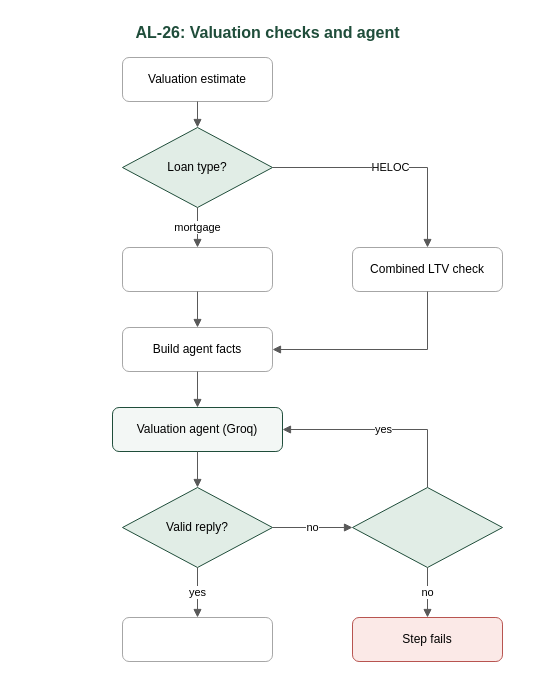
Some shapes in this 534 by 679 pixel diagram are drawn without their labels. Here are the shapes that lost their labels. From the top down, the centre of each, then its label:
the point at 197,269: Gap and LTV checks
the point at 427,527: Retry left?
the point at 197,639: Report to strategist
